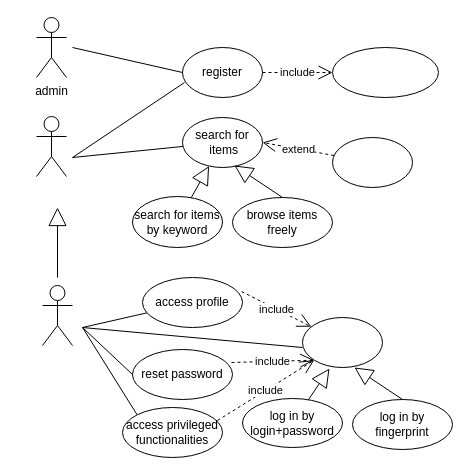
Image size: 470x475. Some labels were removed from this diagram. Here are the shapes that lost their labels. From the top down, the box of each, then its label:
(332, 46, 438, 98): create profile
(36, 116, 66, 176): user
(332, 136, 412, 188): print results
(42, 284, 72, 346): registered user
(302, 316, 382, 368): log in
